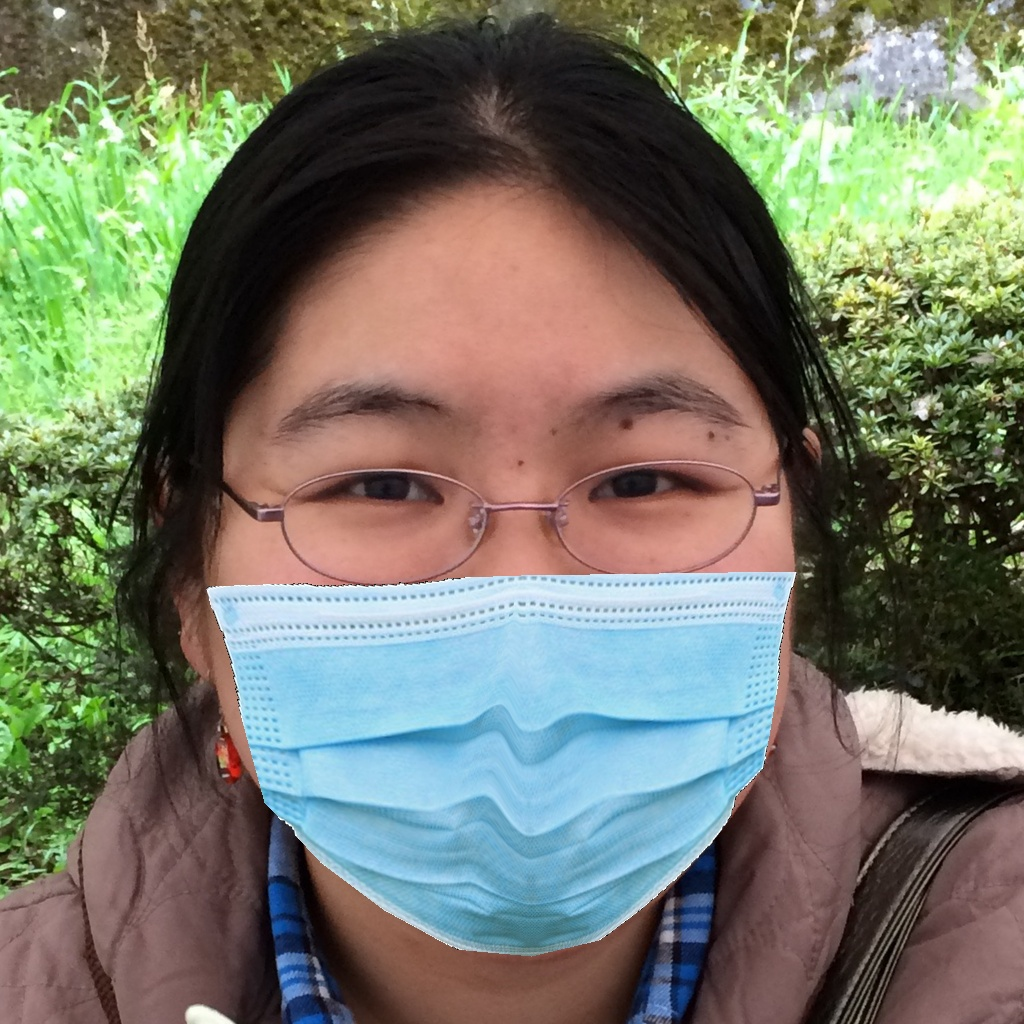with_mask: (223, 360, 790, 968)
